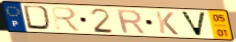2: (89, 8, 115, 35)
D: (22, 4, 55, 32)
K: (154, 10, 181, 37)
R: (49, 6, 83, 33), (115, 9, 148, 35)
V: (178, 11, 208, 38)
